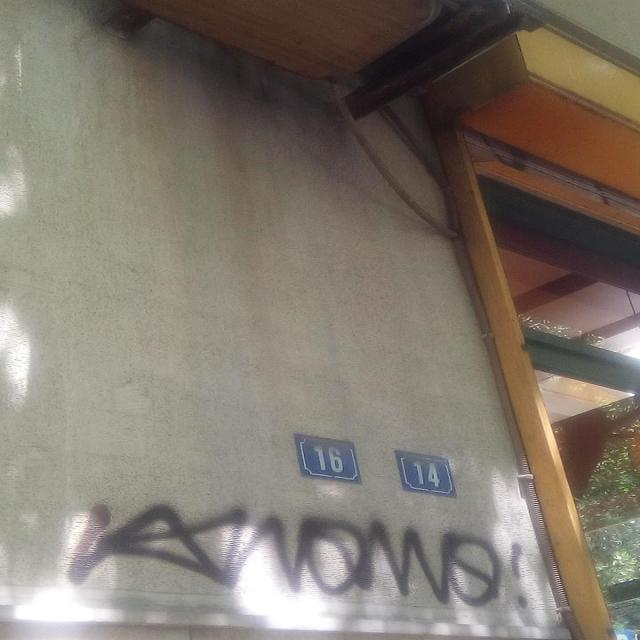nonspitting: (71, 502, 530, 608)
